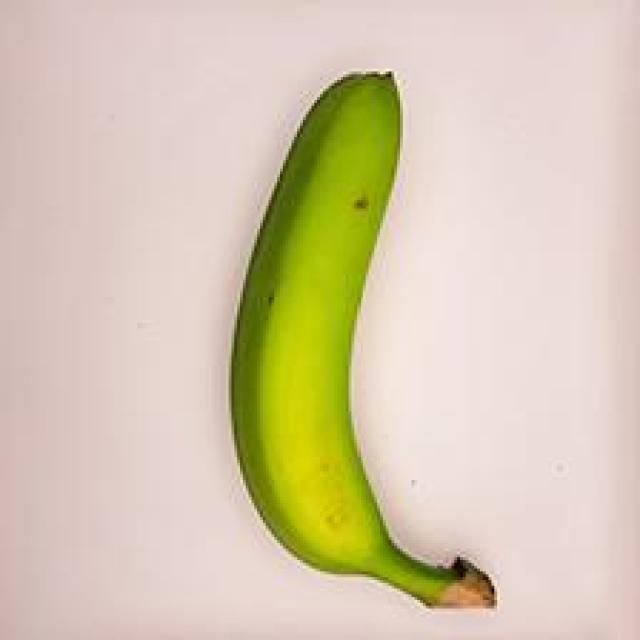Unripe: (190, 31, 514, 626)
